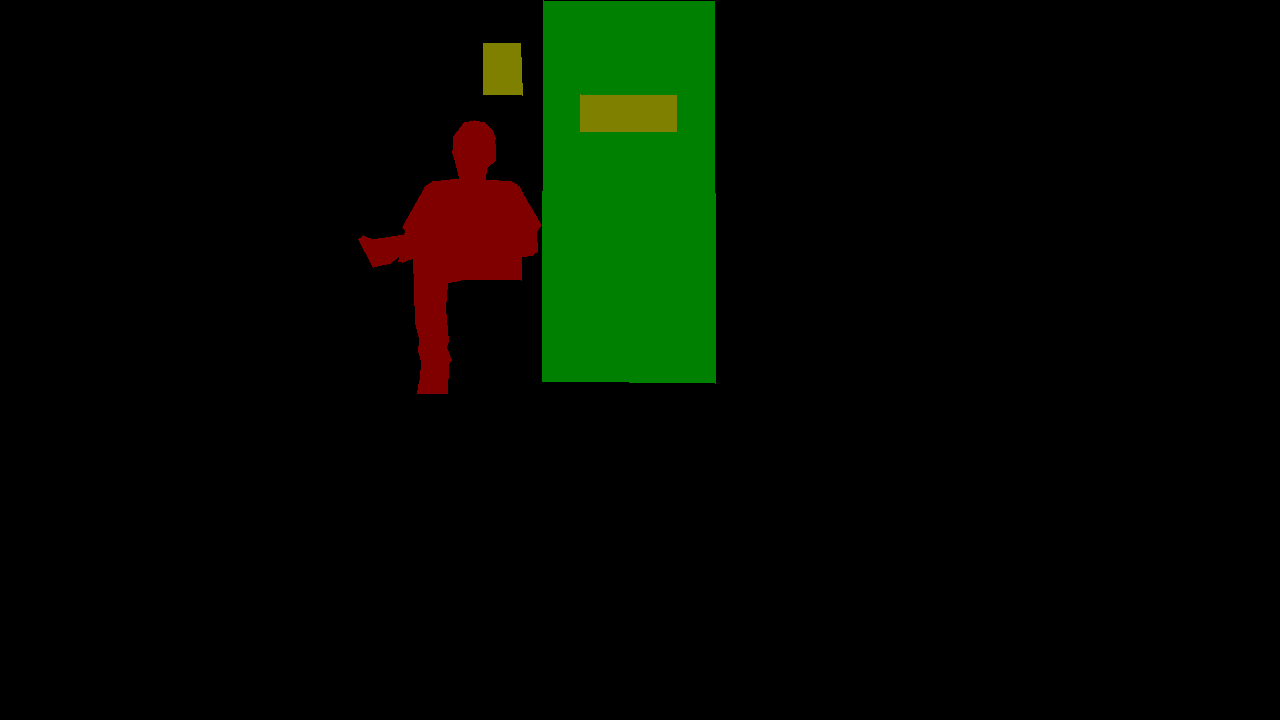door: (542, 0, 715, 383)
person: (358, 120, 541, 393)
sign: (580, 94, 676, 131), (483, 43, 522, 95)
